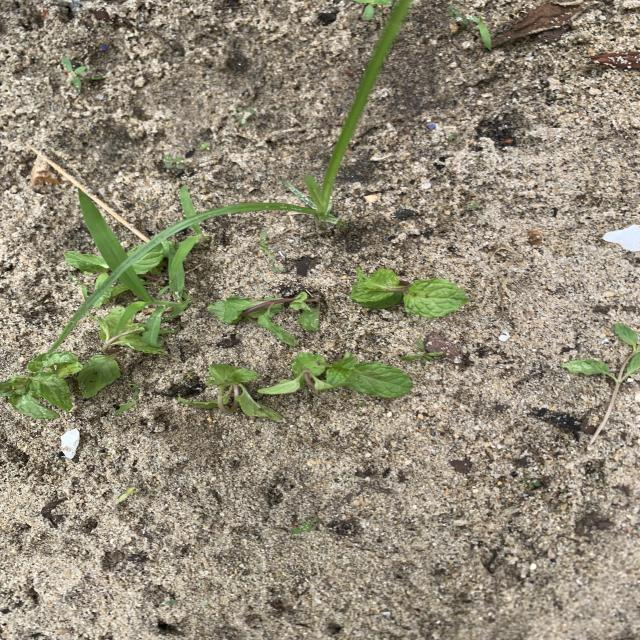crop: (562, 322, 640, 444), (77, 307, 162, 398), (259, 353, 412, 398), (178, 364, 283, 422), (349, 268, 468, 318), (207, 292, 319, 345), (0, 351, 83, 419), (65, 251, 109, 288), (133, 241, 171, 276), (126, 241, 147, 255)
weed: (216, 141, 347, 230), (78, 188, 128, 272), (118, 294, 190, 343), (118, 265, 153, 304)
